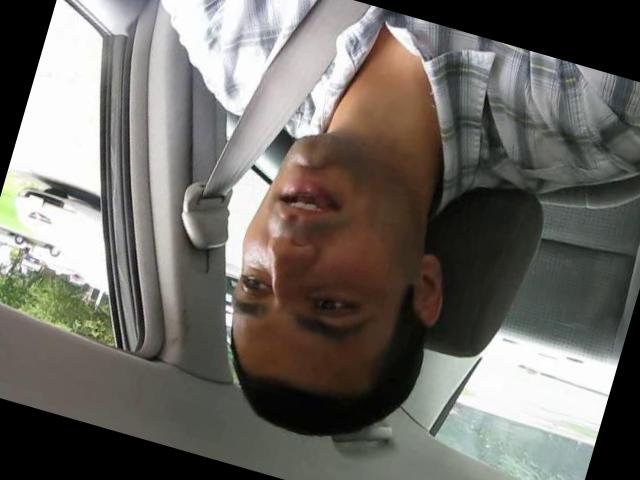eye_open: (302, 282, 366, 329), (232, 264, 278, 303)
face: (216, 145, 418, 356)
